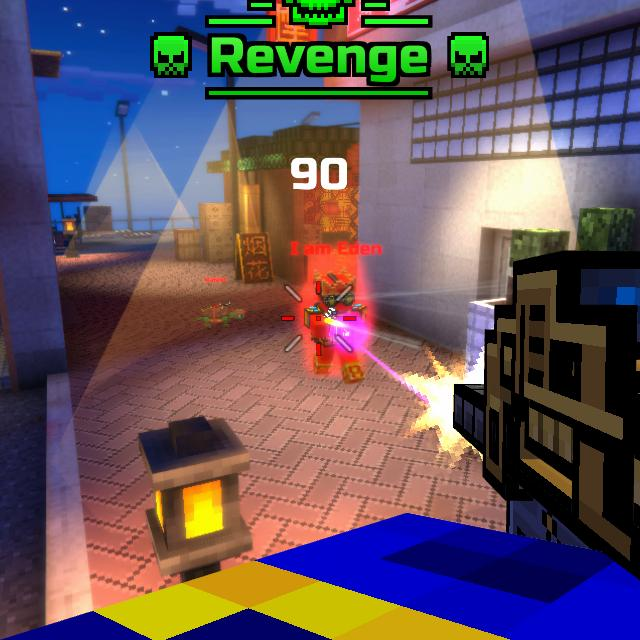Enemy: (304, 275, 370, 382)
